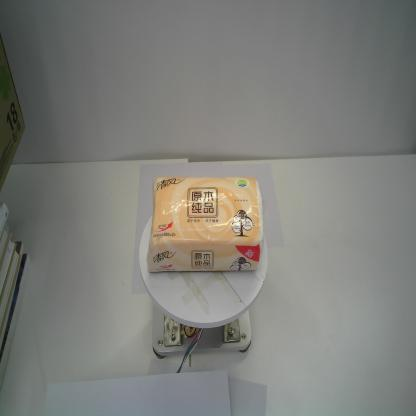Tissue: (146, 175, 266, 274)
